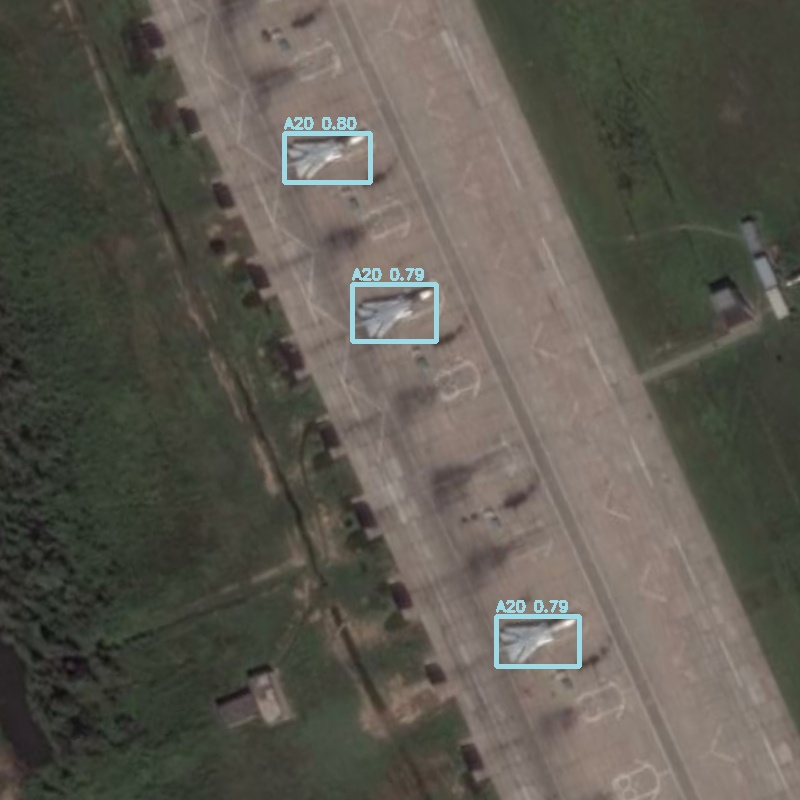A20: (352, 284, 436, 341), (284, 133, 370, 182), (496, 616, 579, 666)
